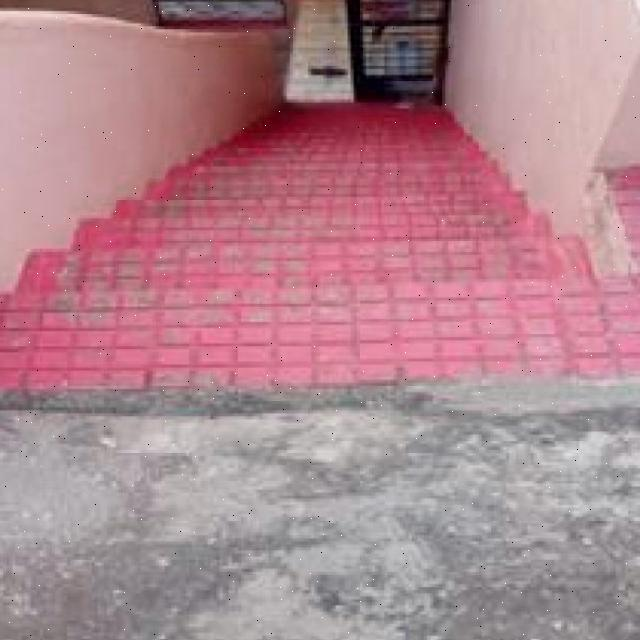stair: (35, 161, 556, 347)
